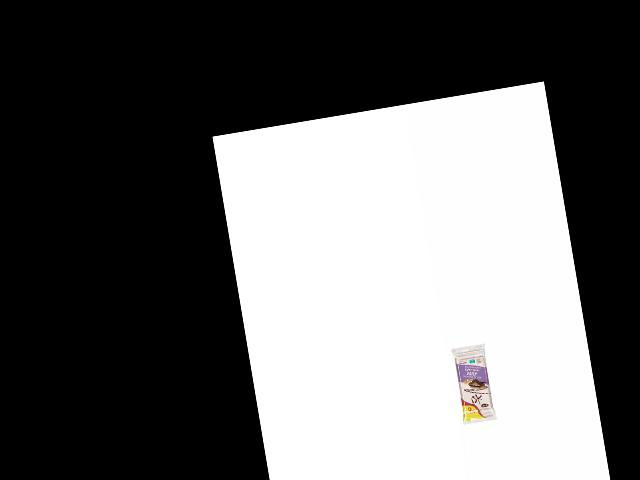chocolate: (448, 342, 500, 427)
